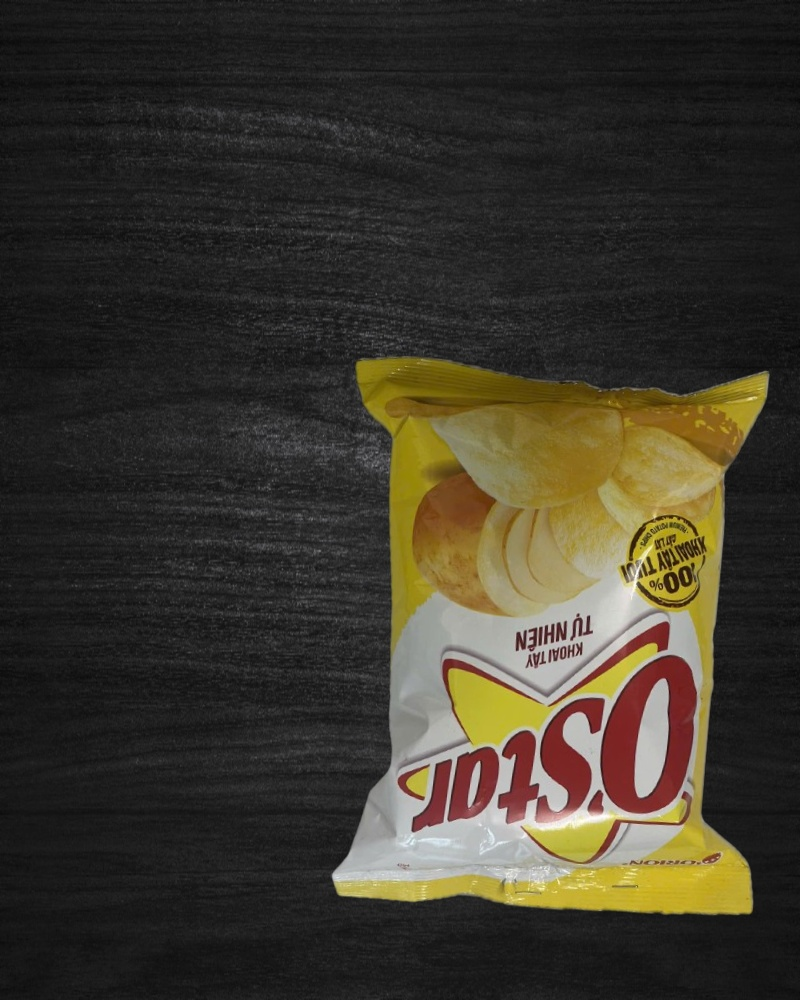Snack cua: (315, 342, 798, 926)
